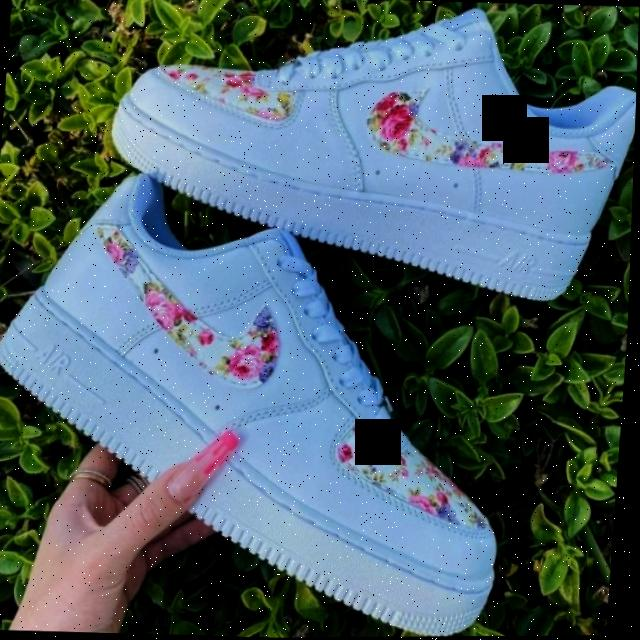shoes: (0, 219, 514, 624), (110, 9, 633, 264)
